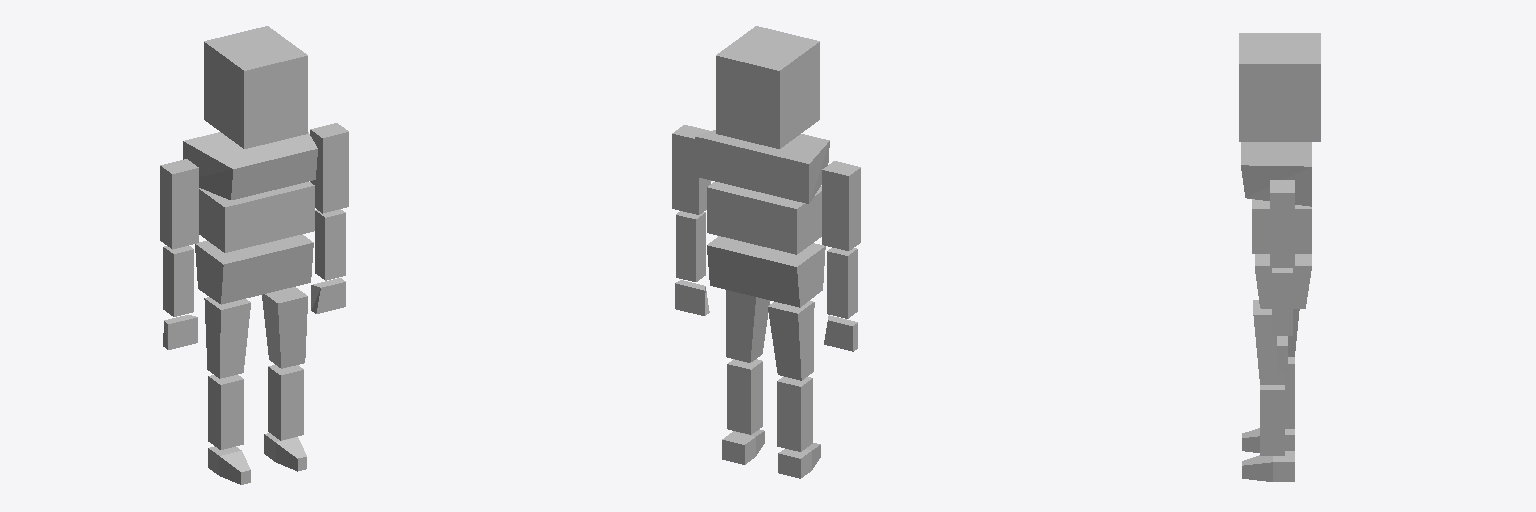
Rendered from player.obj.
The picture shows the model from 3 angles: view 1: azimuth 30°, elevation 25°; view 2: azimuth 150°, elevation 25°; view 3: azimuth 270°, elevation 25°; orthographic projection.
Parts seen in each view (by area): view 1: Cube.001; view 2: Cube.001; view 3: Cube.001.
Boxes of the visible parts, box(x1,y1,x2,y2) form: Cube.001: box(160, 26, 348, 484); Cube.001: box(672, 26, 860, 478); Cube.001: box(1239, 33, 1320, 481).
Bounding box in the file's own units: 0.7611 × 1.7 × 0.3004.